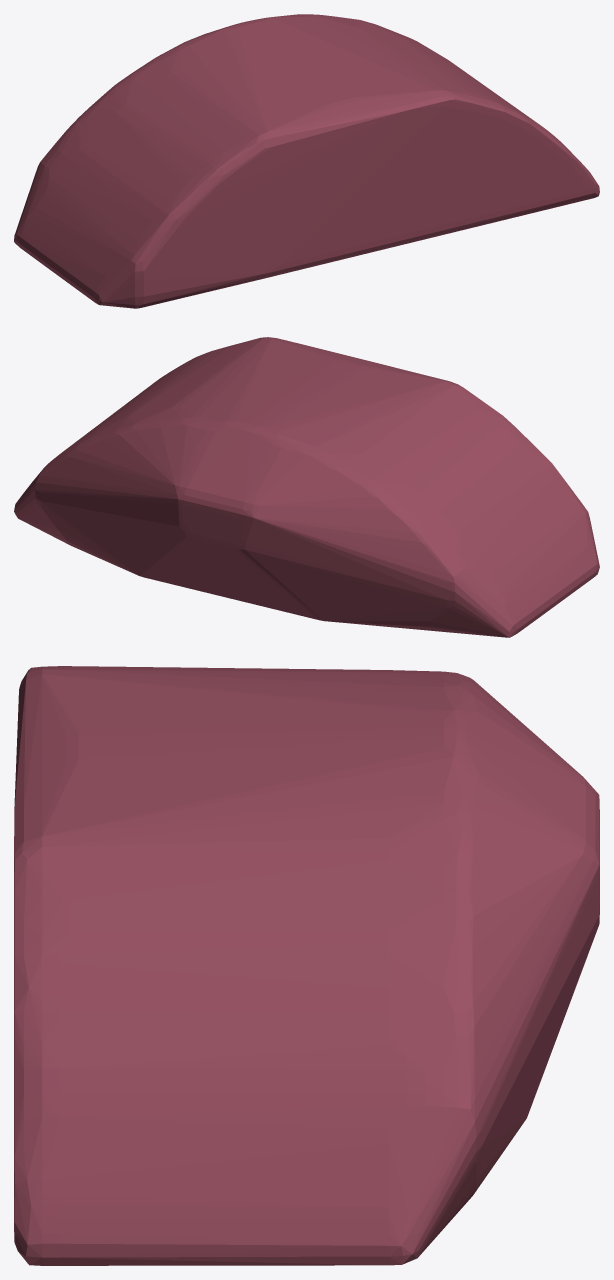
Rendered from right_shoulder_roll_link_part_13.obj.
3 renders of one model, top to bottom at view 1: azimuth 30°, elevation 25°; view 2: azimuth 150°, elevation 25°; view 3: azimuth 270°, elevation 25°, orthographic. The views are drawn at different scales.
Size of the model in its own units: 0.0847 by 0.0256 by 0.0449.
